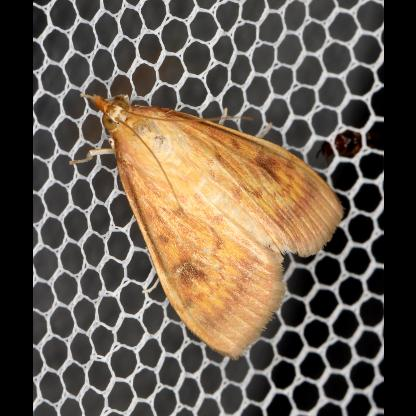Asian Corn Borer Moth: (65, 89, 349, 365)
